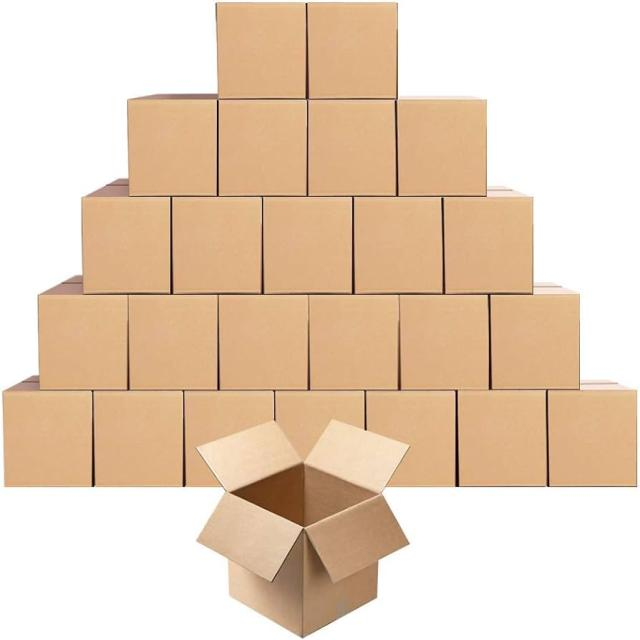Carton: (36, 0, 488, 390), (276, 197, 639, 489), (1, 391, 92, 487), (218, 296, 309, 391), (490, 295, 581, 389), (93, 393, 183, 485)
